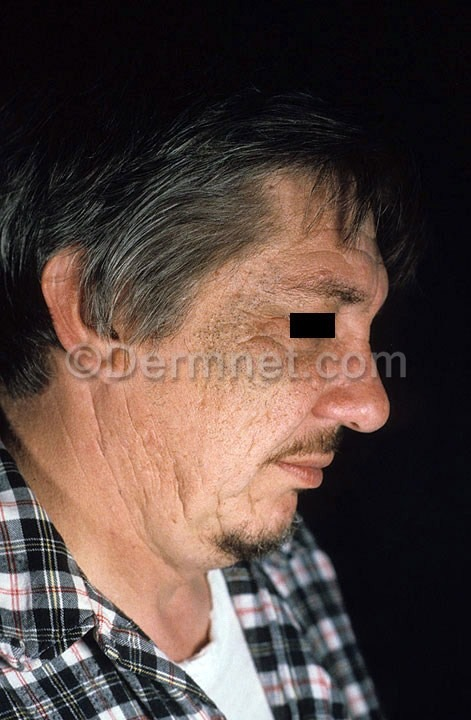Melasma: (184, 94, 386, 400), (183, 381, 308, 430), (322, 385, 382, 419)
